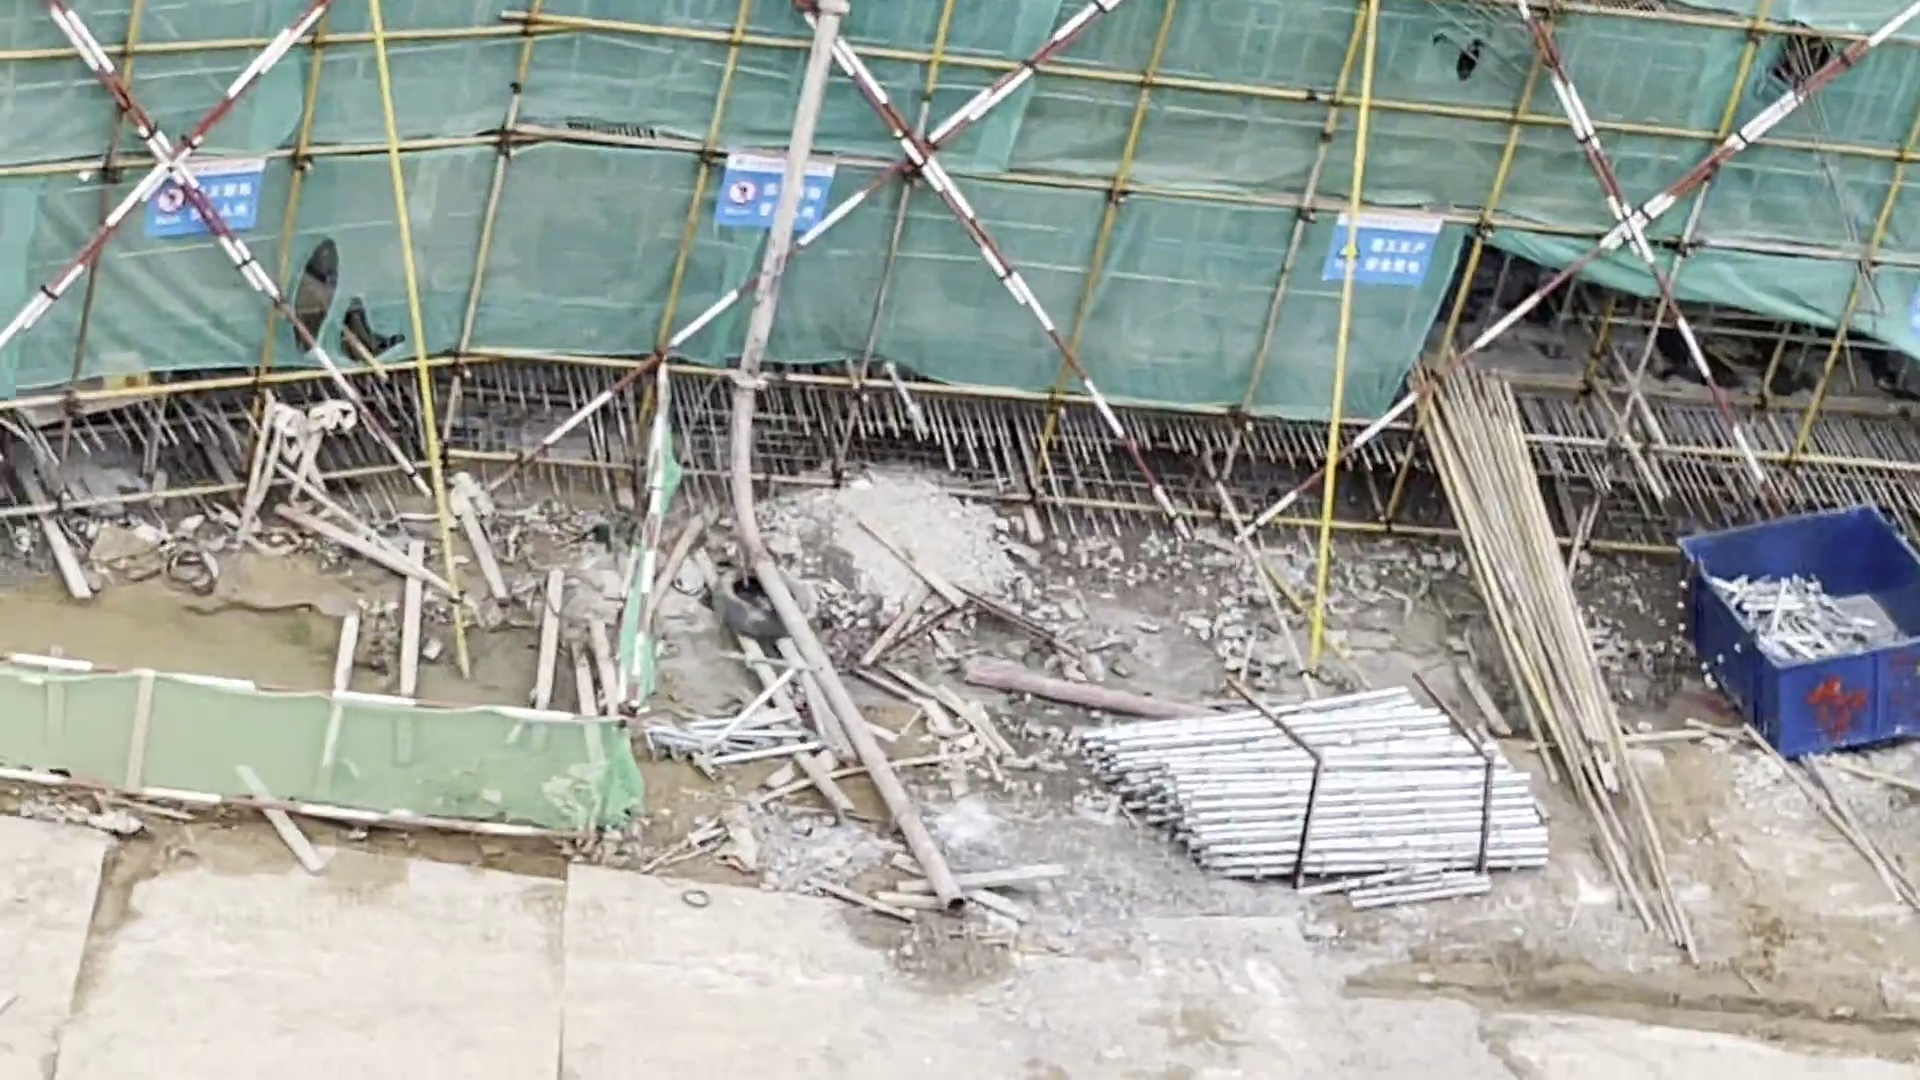hopper: (1663, 493, 1920, 760)
wood: (1407, 356, 1701, 957)
